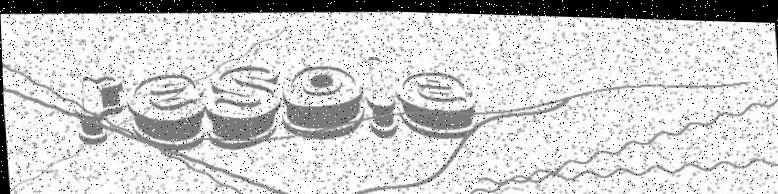e: (396, 63, 488, 146), (123, 69, 209, 152)
l: (360, 49, 404, 142)
o: (276, 58, 371, 149)
r: (73, 71, 126, 145)
s: (205, 60, 290, 161)
